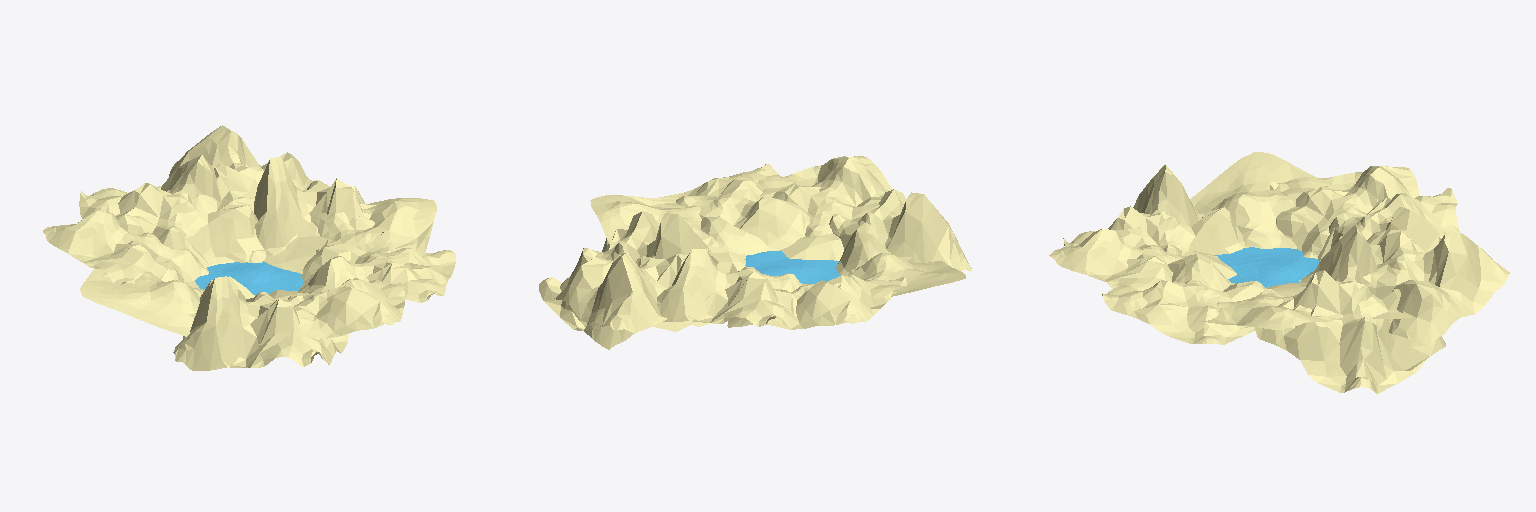
3 renders of one model, left to right at view 1: azimuth 30°, elevation 25°; view 2: azimuth 150°, elevation 25°; view 3: azimuth 270°, elevation 25°, orthographic.
Visible parts, largest first — view 1: Ground_01.006_Plane.011, Ground_01.002_Plane.007, Ground_01_Plane.001, Ground_01.004_Plane.009, Ground_01.007_Plane.012, Ground_01.003_Plane.008, Ground_01.005_Plane.010, Ground_02.002_Plane.006, Ground_01.001_Plane.002, WaterLake_Ground_02_Plane.002, Ground_02.001_Plane.005; view 2: Ground_01.006_Plane.011, Ground_01.004_Plane.009, Ground_01.002_Plane.007, Ground_01.001_Plane.002, Ground_01.003_Plane.008, Ground_01.007_Plane.012, Ground_01_Plane.001, Ground_01.005_Plane.010, Ground_02.002_Plane.006, WaterLake_Ground_02_Plane.002, Ground_02.001_Plane.005; view 3: Ground_01.007_Plane.012, Ground_01.001_Plane.002, Ground_01.004_Plane.009, Ground_01_Plane.001, Ground_01.002_Plane.007, Ground_02.002_Plane.006, Ground_01.003_Plane.008, Ground_01.006_Plane.011, WaterLake_Ground_02_Plane.002, Ground_01.005_Plane.010, Ground_02.001_Plane.005.
Boxes of the visible parts, x1,y1,x2,y2 form: Ground_01.006_Plane.011: [79, 154, 263, 268]; Ground_01.002_Plane.007: [173, 276, 348, 370]; Ground_01_Plane.001: [43, 210, 208, 286]; Ground_01.004_Plane.009: [298, 244, 455, 302]; Ground_01.007_Plane.012: [254, 157, 383, 248]; Ground_01.003_Plane.008: [257, 278, 405, 344]; Ground_01.005_Plane.010: [311, 198, 436, 257]; Ground_02.002_Plane.006: [80, 268, 204, 336]; Ground_01.001_Plane.002: [167, 125, 311, 236]; WaterLake_Ground_02_Plane.002: [195, 261, 302, 295]; Ground_02.001_Plane.005: [190, 236, 327, 317]; Ground_01.006_Plane.011: [657, 249, 801, 328]; Ground_01.004_Plane.009: [659, 164, 809, 254]; Ground_01.002_Plane.007: [829, 189, 971, 274]; Ground_01.001_Plane.002: [554, 252, 721, 332]; Ground_01.003_Plane.008: [758, 156, 892, 236]; Ground_01.007_Plane.012: [539, 211, 711, 349]; Ground_01_Plane.001: [727, 275, 906, 329]; Ground_01.005_Plane.010: [590, 195, 746, 255]; Ground_02.002_Plane.006: [846, 253, 965, 296]; WaterLake_Ground_02_Plane.002: [745, 250, 840, 283]; Ground_02.001_Plane.005: [707, 233, 912, 264]; Ground_01.007_Plane.012: [1252, 225, 1445, 393]; Ground_01.001_Plane.002: [1361, 230, 1510, 344]; Ground_01.004_Plane.009: [1102, 254, 1266, 344]; Ground_01_Plane.001: [1270, 166, 1419, 257]; Ground_01.002_Plane.007: [1063, 164, 1245, 289]; Ground_02.002_Plane.006: [1190, 152, 1316, 248]; Ground_01.003_Plane.008: [1049, 227, 1187, 290]; Ground_01.006_Plane.011: [1307, 188, 1459, 275]; WaterLake_Ground_02_Plane.002: [1215, 247, 1318, 287]; Ground_01.005_Plane.010: [1195, 289, 1343, 329]; Ground_02.001_Plane.005: [1185, 214, 1320, 296].
Bounding box in the file's own units: 84.55 × 24.86 × 91.16.
Materials: 1 (1 with a texture image).